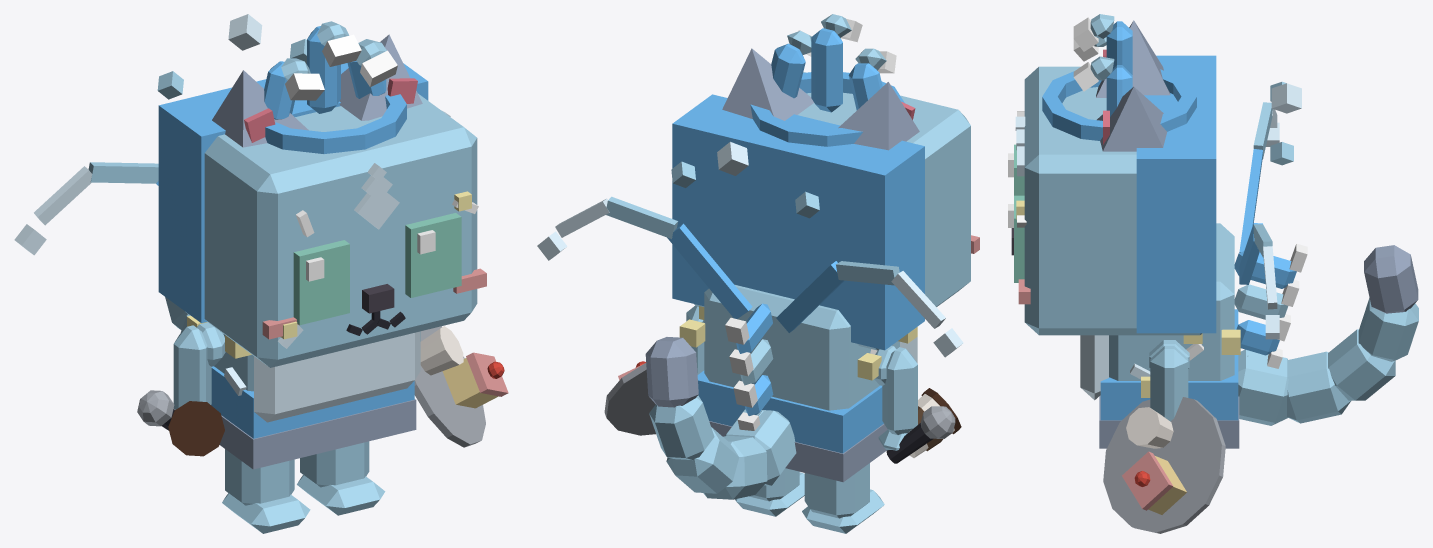
File: CatCafe_Cat_Water_Work.glb
The picture shows the model from 3 angles, left to right: view 1: azimuth 30°, elevation 25°; view 2: azimuth 150°, elevation 25°; view 3: azimuth 270°, elevation 25°; orthographic projection. The views are drawn at different scales.
Parts seen in each view (by area): view 1: CatCafe_Cat_Water_Work_Head, CatCafe_Cat_Water_Work_Body, CatCafe_Cat_Water_Work_Prop, CatCafe_Cat_Water_Work_Held_Waiter, CatCafe_Cat_Water_Work_LegB2, CatCafe_Cat_Water_Work_LegB1, CatCafe_Cat_Water_Work_Eye1, CatCafe_Cat_Water_Work_Eye2, CatCafe_Cat_Water_Work_EarR, CatCafe_Cat_Water_Work_Crest_Glow, CatCafe_Cat_Water_Work_LegF2, CatCafe_Cat_Water_Work_Prop2 (+4 smaller); view 2: CatCafe_Cat_Water_Work_Head, CatCafe_Cat_Water_Work_Body, CatCafe_Cat_Water_Work_Tail, CatCafe_Cat_Water_Work_Prop2, CatCafe_Cat_Water_Work_Prop, CatCafe_Cat_Water_Work_LegB2, CatCafe_Cat_Water_Work_EarL, CatCafe_Cat_Water_Work_LegF2, CatCafe_Cat_Water_Work_EarR, CatCafe_Cat_Water_Work_Bubbles_Glow, CatCafe_Cat_Water_Work_Held_Waiter, CatCafe_Cat_Water_Work_Foam_Glow (+4 smaller); view 3: CatCafe_Cat_Water_Work_Head, CatCafe_Cat_Water_Work_Tail, CatCafe_Cat_Water_Work_Body, CatCafe_Cat_Water_Work_Held_Waiter, CatCafe_Cat_Water_Work_Prop2, CatCafe_Cat_Water_Work_Prop, CatCafe_Cat_Water_Work_EarL, CatCafe_Cat_Water_Work_LegF1, CatCafe_Cat_Water_Work_Bubbles_Glow, CatCafe_Cat_Water_Work_EarR, CatCafe_Cat_Water_Work_Crest_Glow, CatCafe_Cat_Water_Work_Foam_Glow (+1 smaller).
Boxes of the visible parts, left/top/right/bottom form: CatCafe_Cat_Water_Work_Head: left=158, top=63, right=486, bottom=367; CatCafe_Cat_Water_Work_Body: left=187, top=315, right=420, bottom=469; CatCafe_Cat_Water_Work_Prop: left=259, top=21, right=406, bottom=153; CatCafe_Cat_Water_Work_Held_Waiter: left=414, top=326, right=508, bottom=447; CatCafe_Cat_Water_Work_LegB2: left=222, top=449, right=310, bottom=533; CatCafe_Cat_Water_Work_LegB1: left=297, top=441, right=385, bottom=515; CatCafe_Cat_Water_Work_Eye1: left=405, top=213, right=461, bottom=297; CatCafe_Cat_Water_Work_Eye2: left=293, top=240, right=349, bottom=325; CatCafe_Cat_Water_Work_EarR: left=212, top=70, right=308, bottom=147; CatCafe_Cat_Water_Work_Crest_Glow: left=285, top=34, right=397, bottom=100; CatCafe_Cat_Water_Work_LegF2: left=173, top=325, right=211, bottom=409; CatCafe_Cat_Water_Work_Prop2: left=34, top=110, right=450, bottom=225; CatCafe_Cat_Water_Work_Head: left=672, top=72, right=979, bottom=350; CatCafe_Cat_Water_Work_Body: left=679, top=284, right=917, bottom=482; CatCafe_Cat_Water_Work_Tail: left=645, top=337, right=796, bottom=499; CatCafe_Cat_Water_Work_Prop2: left=555, top=196, right=945, bottom=415; CatCafe_Cat_Water_Work_Prop: left=750, top=14, right=904, bottom=146; CatCafe_Cat_Water_Work_LegB2: left=802, top=463, right=884, bottom=533; CatCafe_Cat_Water_Work_EarL: left=722, top=48, right=813, bottom=120; CatCafe_Cat_Water_Work_LegF2: left=878, top=347, right=917, bottom=450; CatCafe_Cat_Water_Work_EarR: left=838, top=82, right=919, bottom=150; CatCafe_Cat_Water_Work_Bubbles_Glow: left=537, top=141, right=963, bottom=357; CatCafe_Cat_Water_Work_Held_Waiter: left=604, top=361, right=655, bottom=435; CatCafe_Cat_Water_Work_Foam_Glow: left=725, top=317, right=760, bottom=430; CatCafe_Cat_Water_Work_Head: left=1011, top=55, right=1216, bottom=335; CatCafe_Cat_Water_Work_Tail: left=1238, top=245, right=1418, bottom=425; CatCafe_Cat_Water_Work_Body: left=1080, top=223, right=1240, bottom=448; CatCafe_Cat_Water_Work_Held_Waiter: left=1103, top=397, right=1225, bottom=533; CatCafe_Cat_Water_Work_Prop2: left=1234, top=102, right=1296, bottom=361; CatCafe_Cat_Water_Work_Prop: left=1042, top=14, right=1196, bottom=140; CatCafe_Cat_Water_Work_EarL: left=1097, top=86, right=1166, bottom=151; CatCafe_Cat_Water_Work_LegF1: left=1150, top=346, right=1188, bottom=421; CatCafe_Cat_Water_Work_Bubbles_Glow: left=1265, top=81, right=1301, bottom=339; CatCafe_Cat_Water_Work_EarR: left=1096, top=20, right=1170, bottom=97; CatCafe_Cat_Water_Work_Crest_Glow: left=1073, top=17, right=1098, bottom=91; CatCafe_Cat_Water_Work_Foam_Glow: left=1267, top=243, right=1307, bottom=368.
Size of the model in its own units: 2.41 by 2.61 by 2.06.
1 material, 1 textured.
